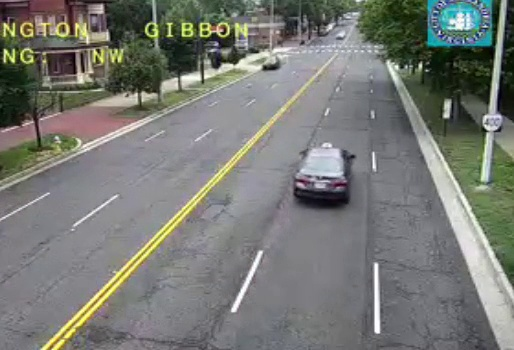car: (293, 147, 349, 201)
